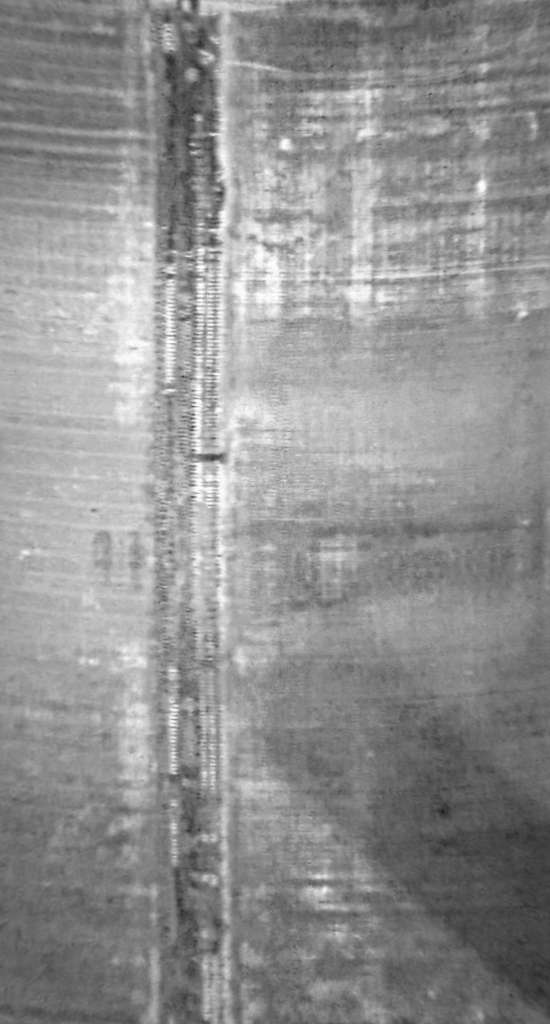splice: (135, 5, 239, 1024)
